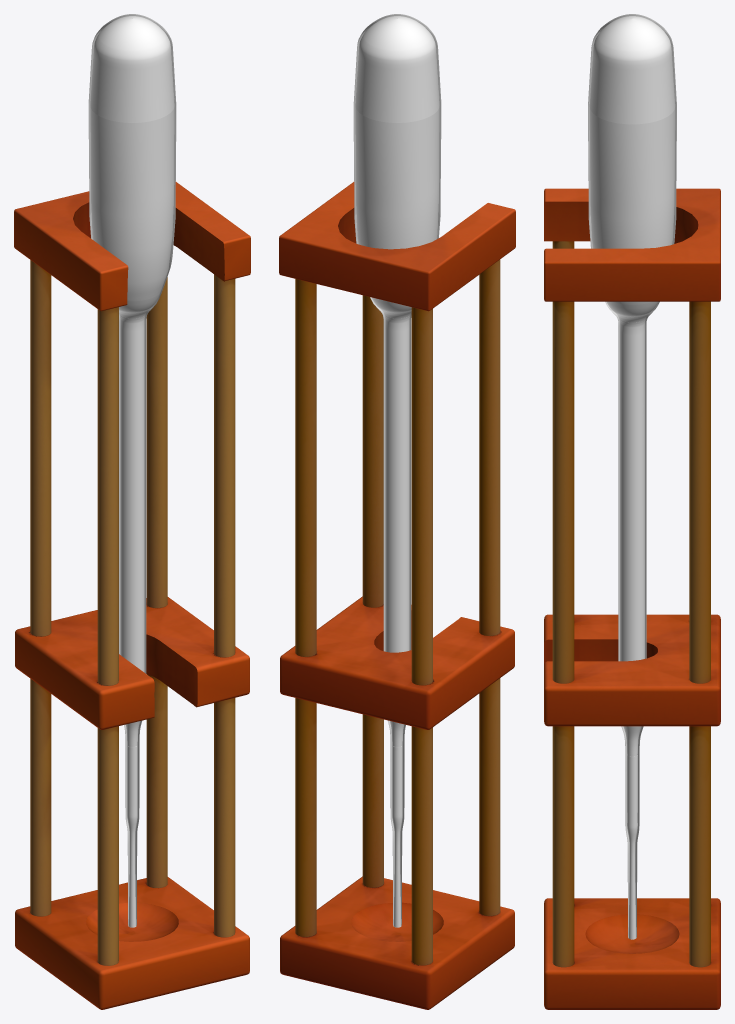
File: support-pipette_flo_v-1.gltf
3 views of the same model, side by side, from view 1: azimuth 30°, elevation 25°; view 2: azimuth 150°, elevation 25°; view 3: azimuth 270°, elevation 25° (orthographic).
Visible parts, largest first — view 1: tubes.1, blocs.1, Pipette; view 2: blocs.1, tubes.1, Pipette; view 3: blocs.1, Pipette, tubes.1.
Part boxes in pixels (x1,y1,x2,y2): tubes.1: (30, 260, 235, 965); blocs.1: (14, 182, 250, 1009); Pipette: (88, 14, 176, 927); blocs.1: (279, 182, 515, 1009); tubes.1: (295, 259, 500, 965); Pipette: (353, 14, 441, 927); blocs.1: (544, 188, 720, 1009); Pipette: (588, 14, 676, 939); tubes.1: (552, 241, 710, 967).
Bounding box in the file's own units: 2 × 11.95 × 2.
Materials: 3 (2 with a texture image).
